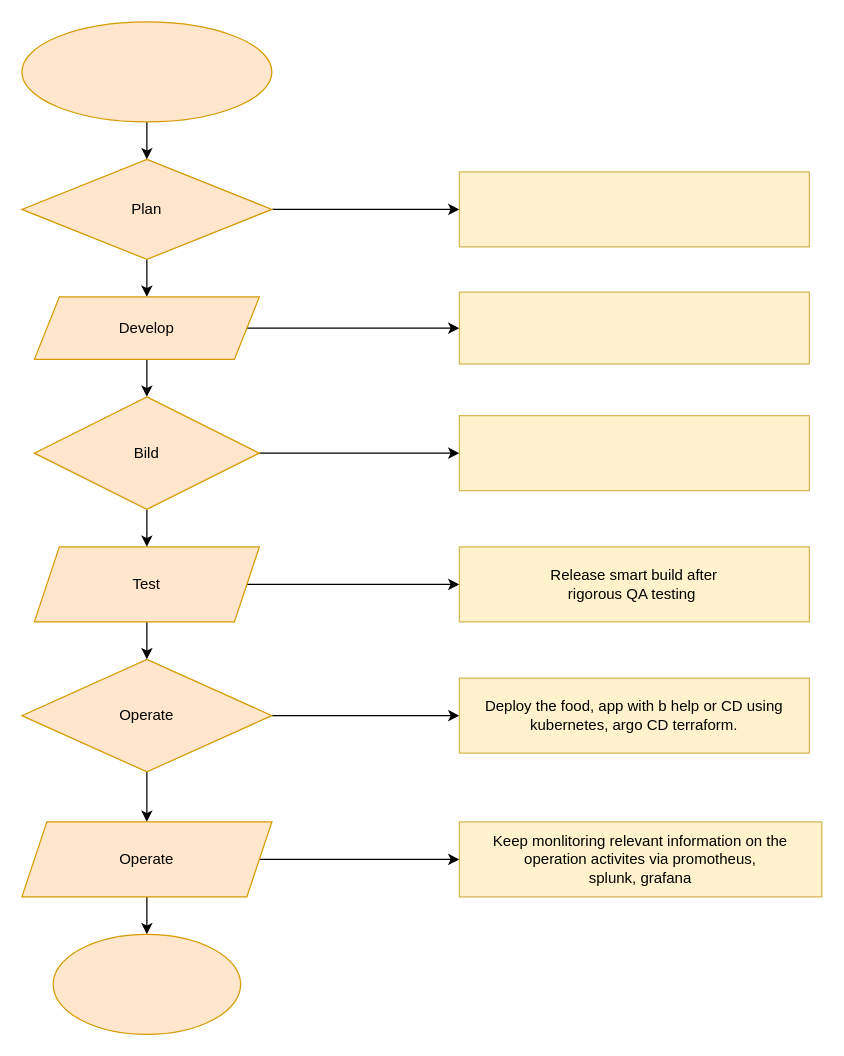
This 844x1056 diagram has some shape labels left out. The box of each missing label's shape, as (x1, y1, x2, y2) in pixels:
Build the food delivery app through CI using Jenkins, Git Hub Actions,: (458, 414, 809, 491)
Developing the app code and microservices: (458, 291, 809, 364)
End: (52, 933, 241, 1034)
Gather requiremenrs for the food delivery application: (458, 171, 809, 247)
Start: (21, 21, 272, 122)
